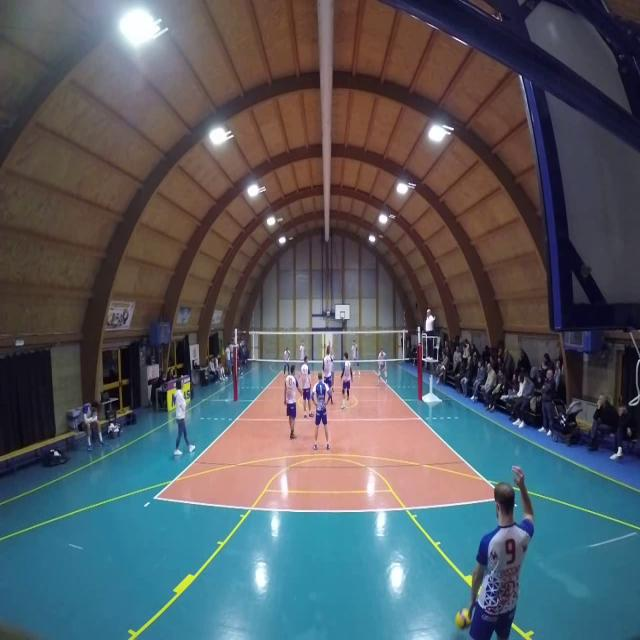Volleyball: (454, 604, 473, 635)
